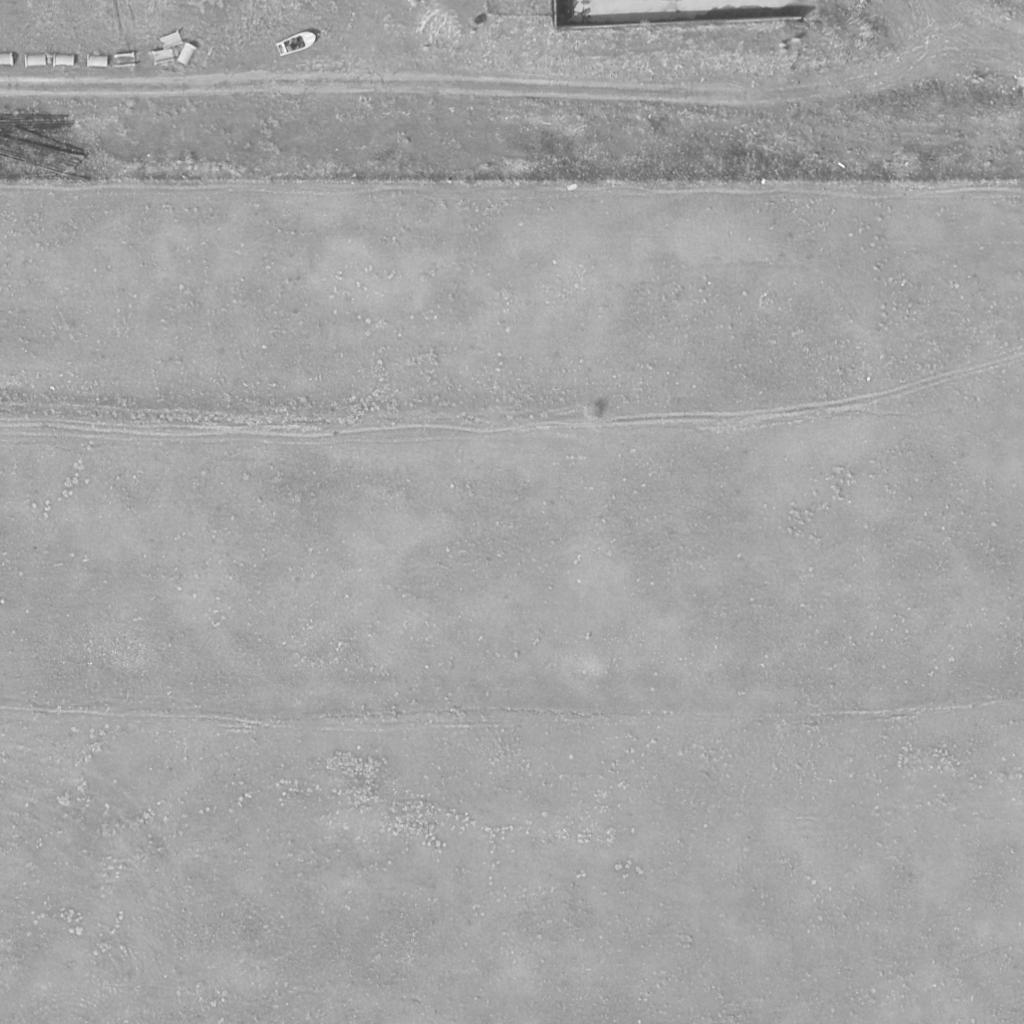vehicle: (273, 28, 323, 60)
